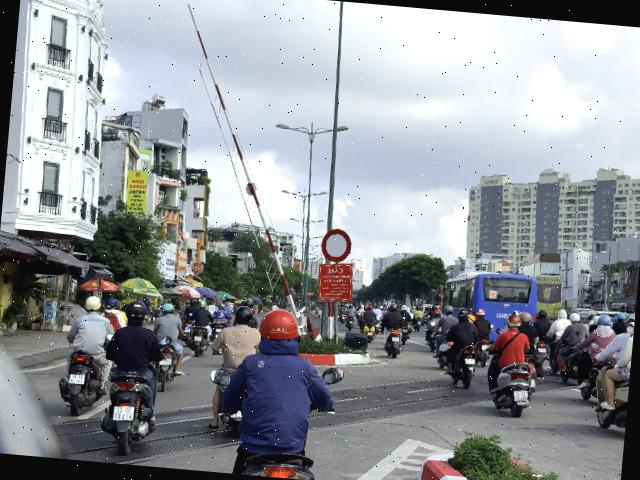duong-cam: (320, 228, 352, 264)
